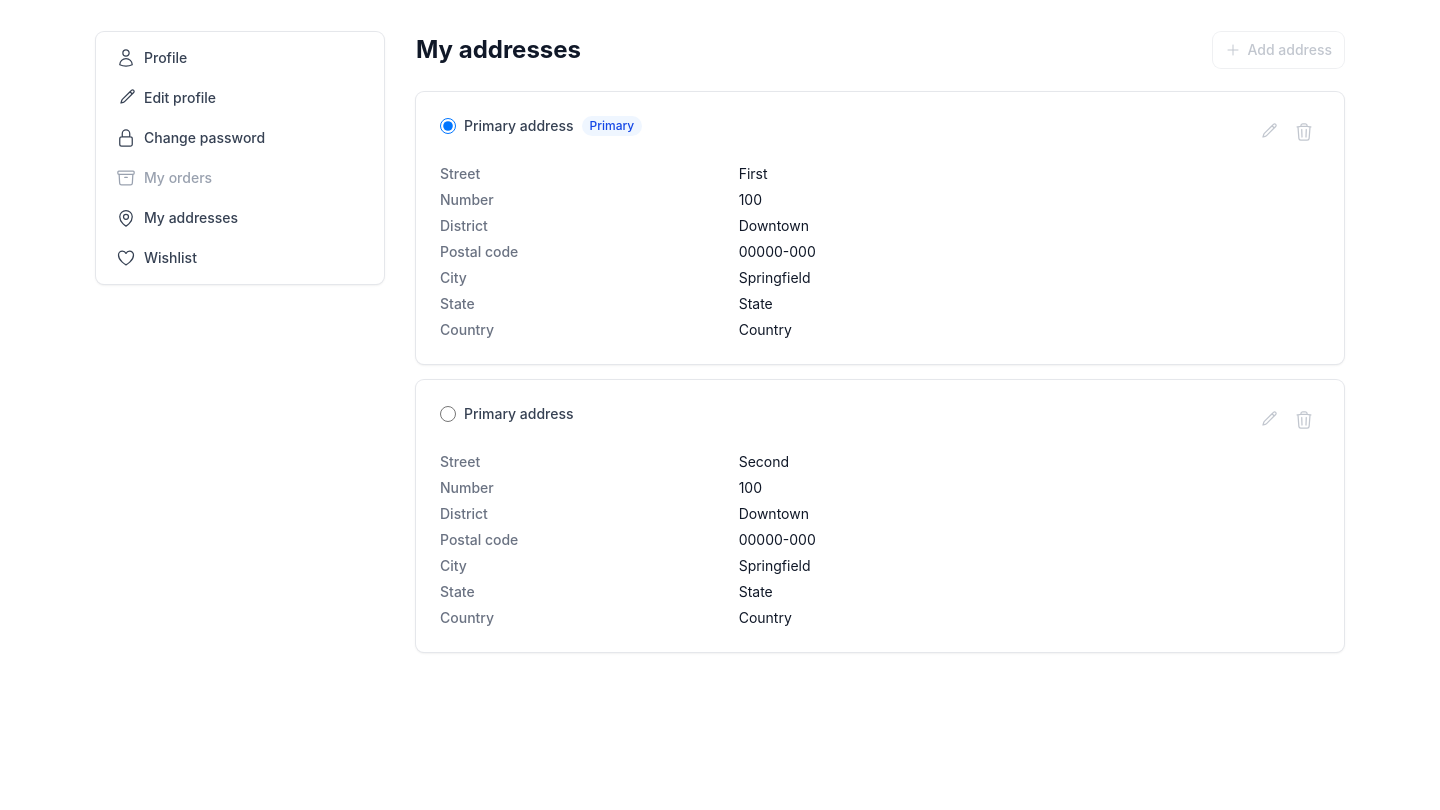
Test case: AddressListPage › reconciles with the authoritative list and shows an error when the update fails
Click the radio button with aria-label "Set Second, 100 as primary address": coordinates (448, 414) [440, 406, 456, 422]
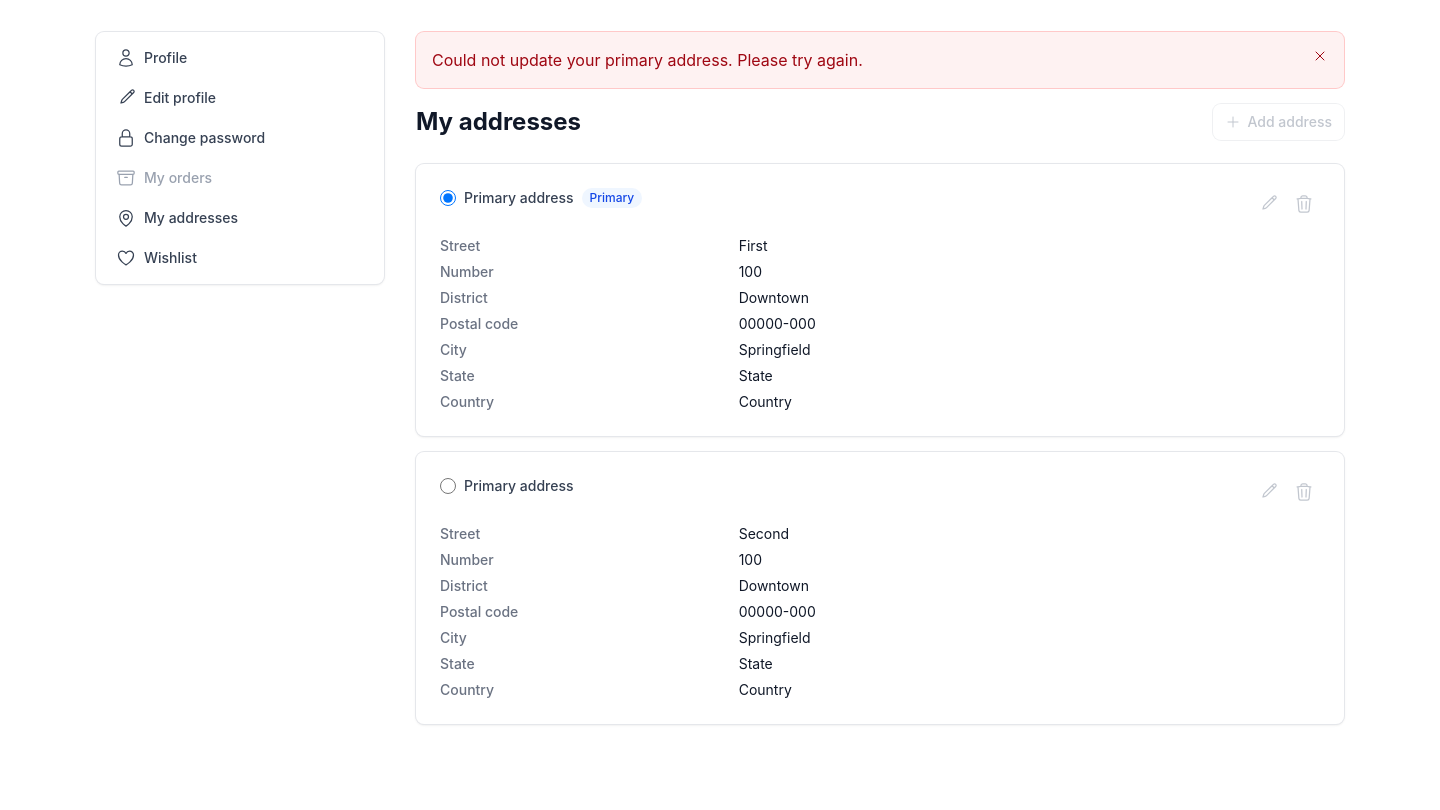
Expected: the radio button with aria-label "Set First, 100 as primary address" is checked, [440, 190, 456, 206]
Now the text "Could not update your primary address. Please try again." is shown, box [432, 50, 863, 70]
